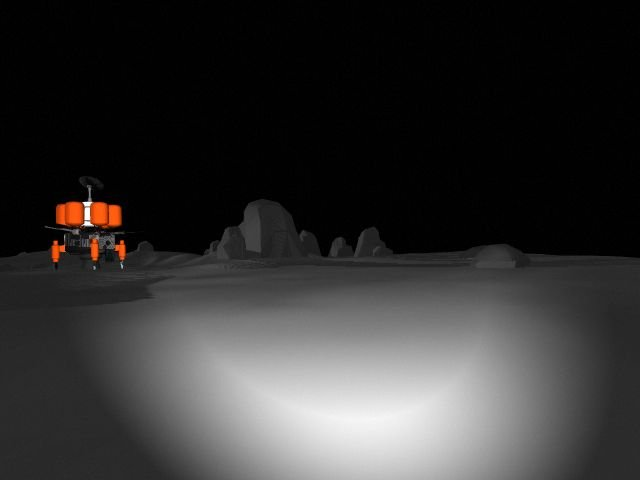homebase: (31, 175, 149, 273)
